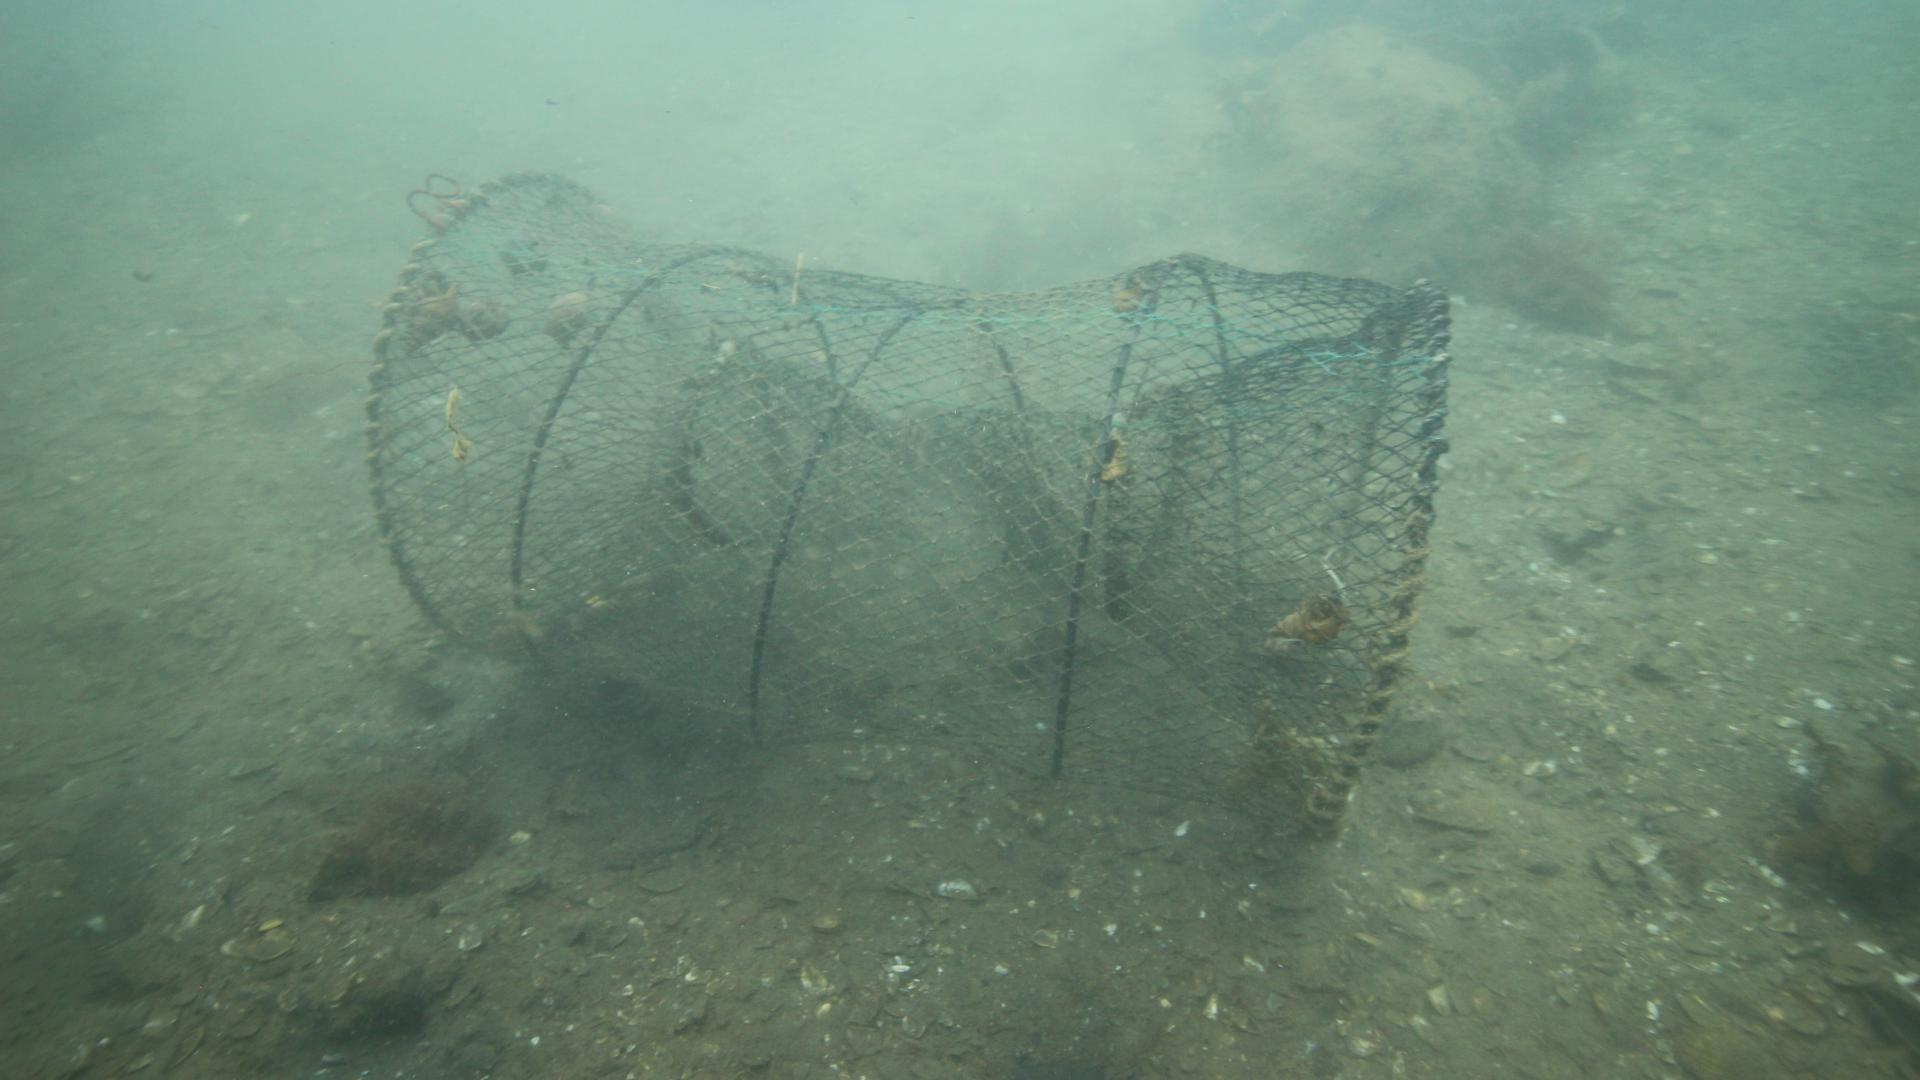spring fish trap: (360, 167, 1458, 858)
